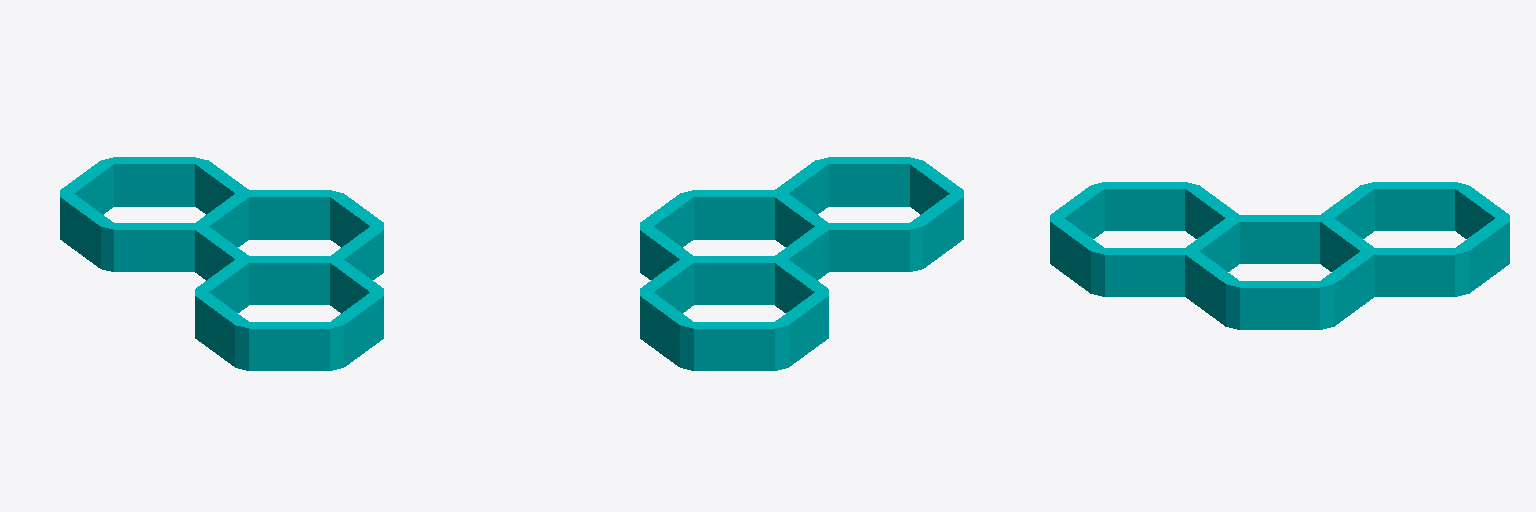
The model's file is PowerUp_Spread.obj.
3 renders of one model, left to right at view 1: azimuth 30°, elevation 25°; view 2: azimuth 150°, elevation 25°; view 3: azimuth 270°, elevation 25°, orthographic.
Parts seen in each view (by area): view 1: honeycomb; view 2: honeycomb; view 3: honeycomb.
Part boxes in pixels (x1,y1,x2,y2): honeycomb: (60,157,383,370); honeycomb: (640,157,963,370); honeycomb: (1050,182,1509,329).
Size of the model in its own units: 8.54 by 1.61 by 15.7.